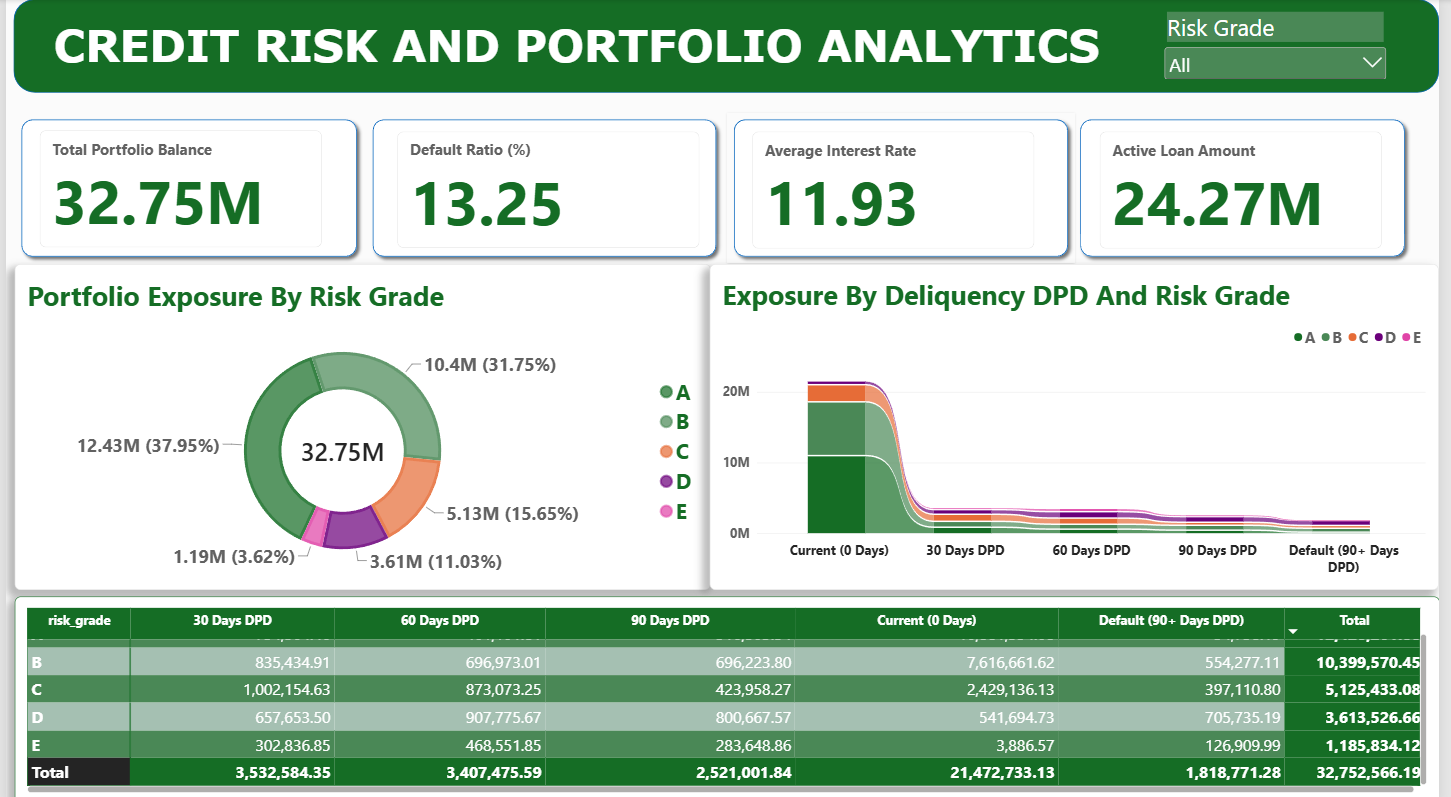

Layout of this report page (visuals, bound fields, positions):
{"tool":"powerbi","page":{"name":"Page 1","canvas":[1920,1080],"ordinal":0},"visuals":[{"type":"shape","box":[10.3,0,1910.1,125.6],"z":0},{"type":"textbox","box":[63.8,24.7,1422.3,72],"z":1000},{"type":"slicer","fields":{"Values":["vw_cleaned_loan_portfolio.risk_grade"]},"box":[1547.9,16.5,306.7,90.6],"z":2000},{"type":"shape","box":[10.9,152.8,467.4,201.9],"z":3000},{"type":"shape","box":[481.9,152.8,478.3,201.9],"z":4000},{"type":"shape","box":[965.6,152.8,465.5,201.9],"z":5000},{"type":"shape","box":[1430.5,152.3,452.8,201.7],"z":6000},{"type":"cardVisual","fields":{"Data":["Sum(vw_cleaned_loan_portfolio.outstanding_balance)"]},"box":[45.4,175.2,378.5,157.9],"z":7000},{"type":"cardVisual","fields":{"Data":["vw_portfolio_risk_metrics.Default Ratio (%)"]},"box":[523.7,178.2,405.5,156.4],"z":8000},{"type":"cardVisual","fields":{"Data":["vw_portfolio_risk_metrics.Average Interest Rate"]},"box":[999.1,177.3,378.5,157.9],"z":9000},{"type":"cardVisual","fields":{"Data":["Sum(payments.amount_due)"]},"box":[1466.3,177.3,378.5,157.9],"z":10000},{"type":"donutChart","title":"Portfolio Exposure By Risk Grade ","fields":{"Category":["vw_portfolio_risk_metrics.risk_grade"],"Y":["Sum(vw_portfolio_risk_metrics.total_outstanding_balance)"]},"box":[10.9,354.6,932.9,436.4],"z":11000},{"type":"columnChart","title":"Exposure By Deliquency DPD And Risk Grade","fields":{"Category":["vw_portfolio_risk_metrics.delinquency_bucket"],"Series":["vw_portfolio_risk_metrics.risk_grade"],"Y":["Sum(vw_portfolio_risk_metrics.total_outstanding_balance)"]},"box":[943.8,354.6,976.6,436.4],"z":12000},{"type":"pivotTable","fields":{"Columns":["vw_portfolio_risk_metrics.delinquency_bucket"],"Rows":["vw_portfolio_risk_metrics.risk_grade"],"Values":["Sum(vw_portfolio_risk_metrics.total_outstanding_balance)"]},"box":[10.9,800.2,1909.5,280.1],"z":13000}]}

Visuals, with their boxes in screenshot pixels (x1, y1, x2, y2), scaled from the page's 1920x1080 canvas onto the 1451x797 screenshot:
shape: locate(8, 0, 1450, 93)
textbox: locate(48, 18, 1123, 71)
slicer - vw_cleaned_loan_portfolio.risk_grade: locate(1170, 12, 1402, 79)
shape: locate(8, 113, 361, 262)
shape: locate(364, 113, 726, 262)
shape: locate(730, 113, 1082, 262)
shape: locate(1081, 112, 1423, 261)
cardVisual - Sum(vw_cleaned_loan_portfolio.outstanding_balance): locate(34, 129, 320, 246)
cardVisual - vw_portfolio_risk_metrics.Default Ratio (%): locate(396, 132, 702, 247)
cardVisual - vw_portfolio_risk_metrics.Average Interest Rate: locate(755, 131, 1041, 247)
cardVisual - Sum(payments.amount_due): locate(1108, 131, 1394, 247)
"Portfolio Exposure By Risk Grade " donutChart: locate(8, 262, 713, 584)
"Exposure By Deliquency DPD And Risk Grade" columnChart: locate(713, 262, 1450, 584)
pivotTable - vw_portfolio_risk_metrics.delinquency_bucket x vw_portfolio_risk_metrics.risk_grade: locate(8, 591, 1450, 796)
